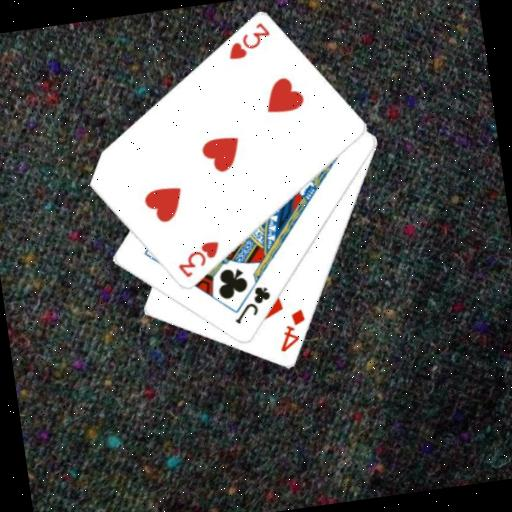3H: (172, 238, 225, 282), (222, 19, 275, 63)
4D: (272, 305, 312, 355)
JC: (227, 282, 276, 327)
